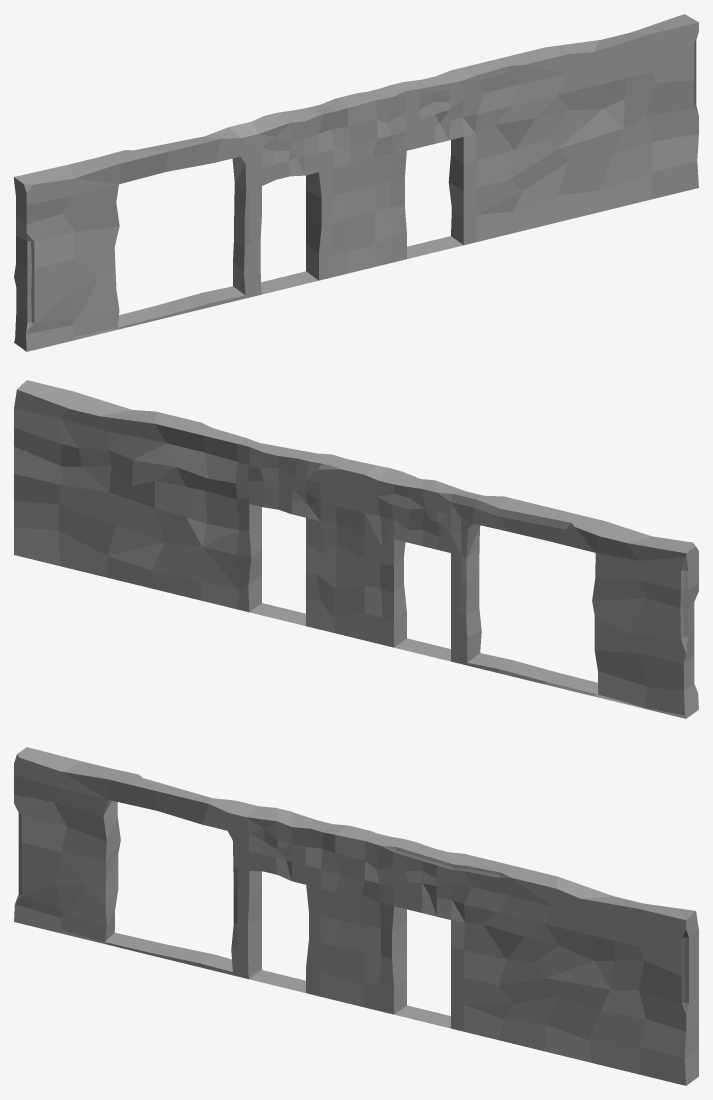
Rendered from Fixed Mesh 11.fbx.
3 views of the same model, one above another, from view 1: azimuth 30°, elevation 25°; view 2: azimuth 150°, elevation 25°; view 3: azimuth 330°, elevation 25° (orthographic).
Parts seen in each view (by area): view 1: Cube.072; view 2: Cube.072; view 3: Cube.072.
Part boxes in pixels (left/top/right/bottom): Cube.072: left=14, top=14, right=698, bottom=351; Cube.072: left=14, top=380, right=698, bottom=718; Cube.072: left=14, top=747, right=698, bottom=1085.
Size of the model in its own units: 1820 by 428 by 70.44.
